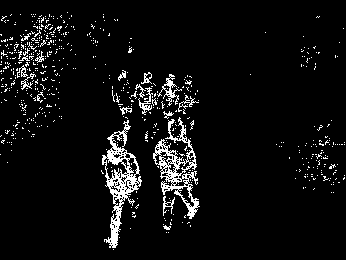person: (101, 128, 144, 247), (160, 120, 202, 229), (112, 68, 135, 125), (161, 70, 179, 123), (140, 69, 157, 122), (185, 69, 203, 119)
